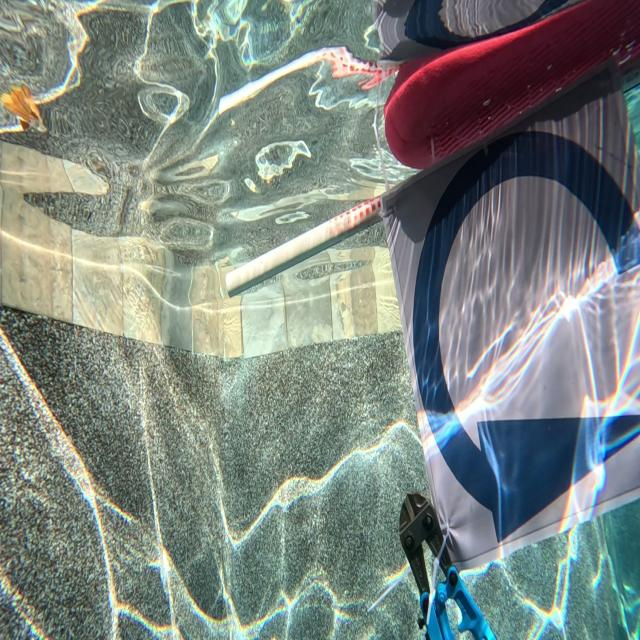blue_side: (421, 129, 636, 518)
